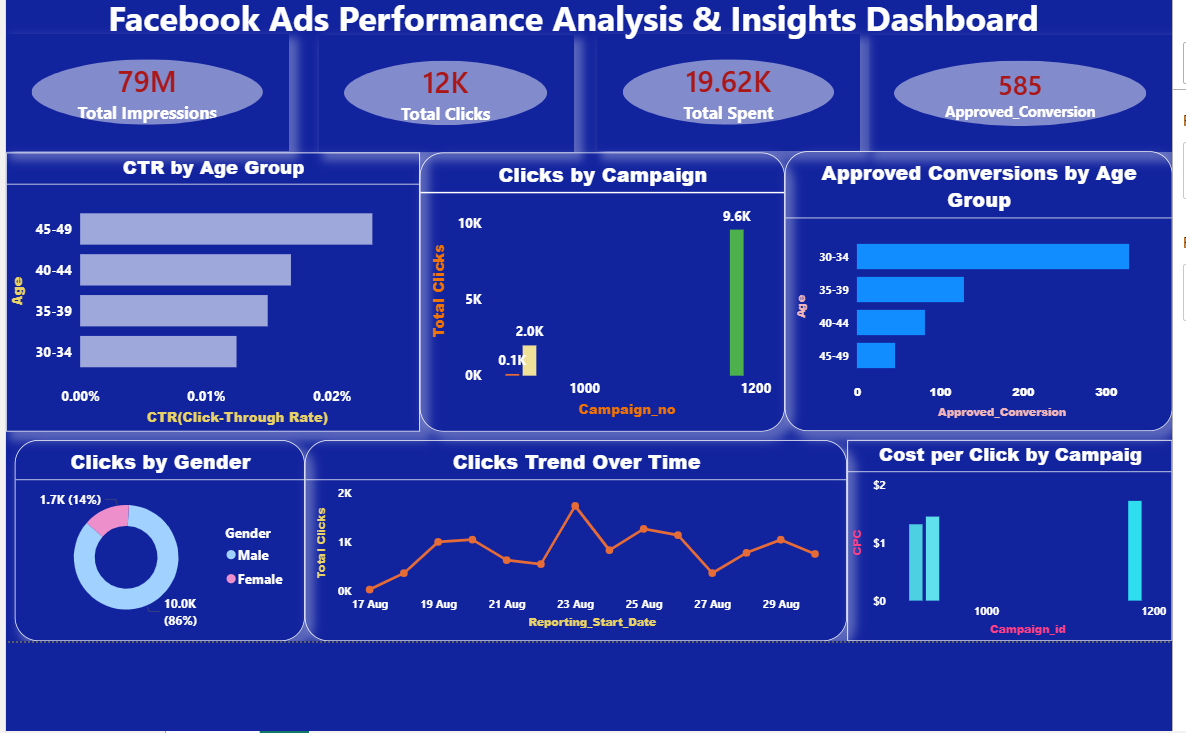

The dashboard page shown, as its layout file describes it:
{"tool":"powerbi","page":{"name":"Page 1","canvas":[1280,720],"ordinal":0},"visuals":[{"type":"textbox","box":[9.6,5,1226.8,63.1],"z":0},{"type":"cardVisual","fields":{"Data":["Sum(data.Impressions)"]},"box":[0,53.5,310.1,129],"z":1},{"type":"cardVisual","fields":{"Data":["Sum(data.Amount_Spent)"]},"box":[649.1,53.5,288.2,129],"z":3},{"type":"cardVisual","fields":{"Data":["Sum(data.Approved_Conversion)"]},"box":[946.8,54.9,333.4,129],"z":4},{"type":"cardVisual","fields":{"Data":["Sum(data.Clicks)"]},"box":[343.1,54.9,279.9,127.6],"z":5},{"type":"lineChart","title":"Clicks Trend Over Time","fields":{"Y":["Sum(data.Clicks)"],"Category":["data.Reporting_Start_Date"]},"box":[328,499.5,595.5,220.9],"z":6},{"type":"clusteredColumnChart","title":"Clicks by Campaign","fields":{"Category":["data.Campaign_id"],"Y":["Sum(data.Clicks)"]},"box":[454.2,183.9,400.7,306],"z":7},{"type":"clusteredBarChart","title":" Approved Conversions by Age Group","fields":{"Category":["data.Age"],"Y":["Sum(data.Approved_Conversion)"]},"box":[854.9,182.5,425.4,307.4],"z":8},{"type":"donutChart","title":"Clicks by Gender","fields":{"Category":["data.Gender"],"Y":["Sum(data.Clicks)"]},"box":[9.6,499.5,318.4,220.9],"z":9},{"type":"clusteredBarChart","title":"CTR by Age Group","fields":{"Category":["data.Age"],"Y":["data.CTR"]},"box":[0,183.9,454.2,306],"z":10},{"type":"columnChart","title":"Cost per Click by Campaig","fields":{"Y":["data.CPC"],"Category":["data.Campaign_id"]},"box":[923.5,499.5,356.8,220.9],"z":11}]}

Visuals, with their boxes in screenshot pixels (x1, y1, x2, y2):
textbox: [left=9, top=14, right=1130, bottom=71]
cardVisual - Sum(data.Impressions): [left=0, top=58, right=283, bottom=176]
cardVisual - Sum(data.Amount_Spent): [left=593, top=58, right=856, bottom=176]
cardVisual - Sum(data.Approved_Conversion): [left=865, top=59, right=1170, bottom=177]
cardVisual - Sum(data.Clicks): [left=314, top=59, right=569, bottom=176]
"Clicks Trend Over Time" lineChart: [left=300, top=466, right=844, bottom=668]
"Clicks by Campaign" clusteredColumnChart: [left=415, top=177, right=781, bottom=457]
" Approved Conversions by Age Group" clusteredBarChart: [left=781, top=176, right=1170, bottom=457]
"Clicks by Gender" donutChart: [left=9, top=466, right=300, bottom=668]
"CTR by Age Group" clusteredBarChart: [left=0, top=177, right=415, bottom=457]
"Cost per Click by Campaig" columnChart: [left=844, top=466, right=1170, bottom=668]
